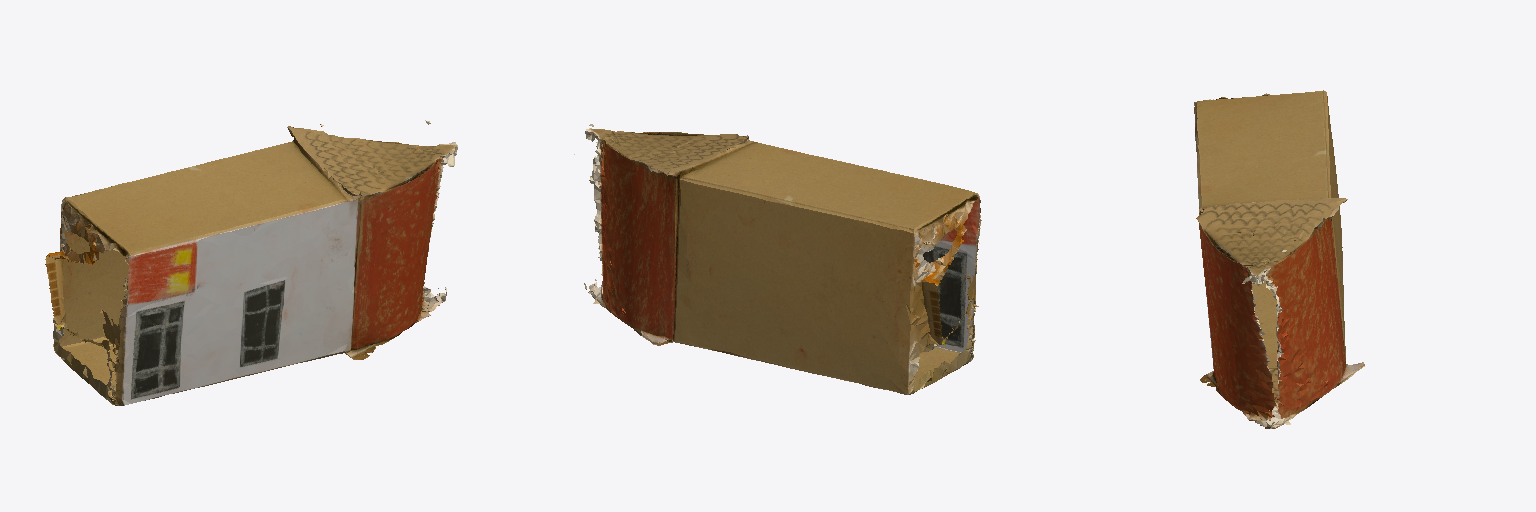
The picture shows the model from 3 angles: view 1: azimuth 30°, elevation 25°; view 2: azimuth 150°, elevation 25°; view 3: azimuth 270°, elevation 25°; orthographic projection.
Size of the model in its own units: 13.59 by 6.2 by 5.29.
Materials: 1 (1 with a texture image).